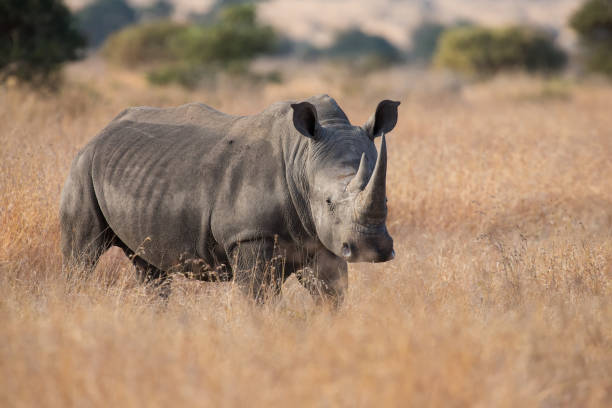rhino: (284, 93, 441, 277)
